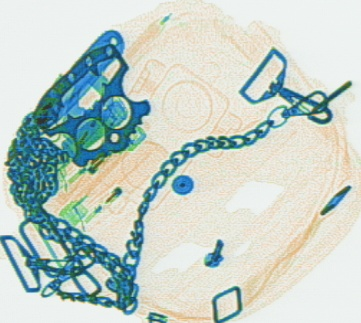knife: (31, 25, 127, 131)
lighter: (52, 140, 166, 236)
